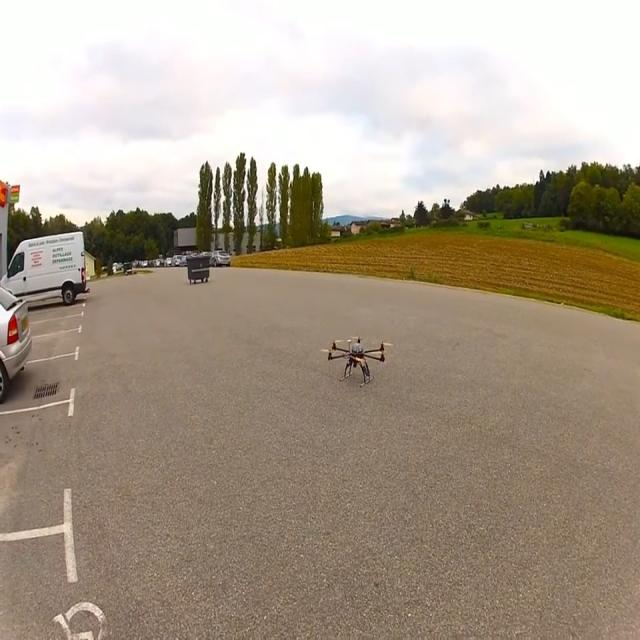drone: (319, 335, 392, 388)
